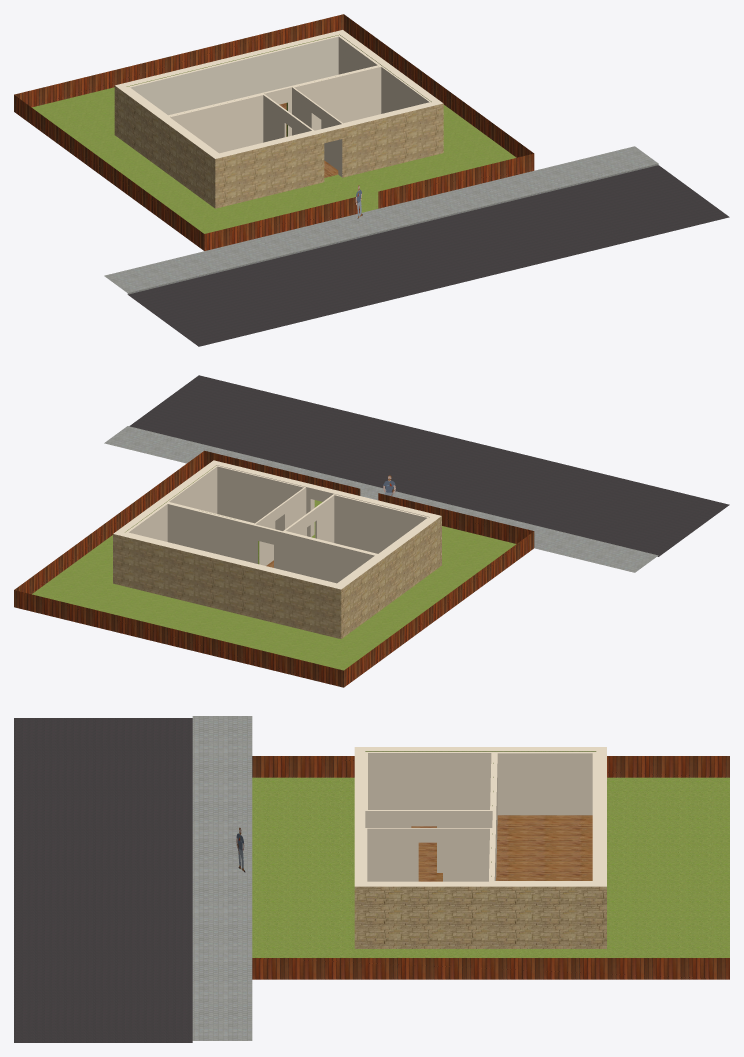
The model's file is GruppeF.glb.
3 renders of one model, top to bottom at view 1: azimuth 30°, elevation 25°; view 2: azimuth 150°, elevation 25°; view 3: azimuth 270°, elevation 25°, orthographic. The views are drawn at different scales.
Parts seen in each view (by area): view 1: ID465, SketchUp, ID499, ID539, ID452, ID512, ID553, ID491, ID547; view 2: ID465, ID539, ID499, SketchUp, ID512, ID547, ID452, ID491; view 3: ID465, ID539, ID452, ID512, ID499, SketchUp, ID547, ID531, ID491, ID518.
Part boxes in pixels (box(x1,y1,x2,y2)): ID465: box(128, 165, 729, 346); SketchUp: box(14, 14, 534, 250); ID499: box(114, 86, 443, 208); ID539: box(32, 87, 516, 233); ID452: box(104, 146, 658, 294); ID512: box(168, 66, 431, 177); ID553: box(130, 36, 338, 115); ID491: box(115, 30, 442, 158); ID547: box(127, 35, 381, 136); ID465: box(129, 375, 729, 556); ID539: box(32, 500, 516, 670); ID499: box(113, 516, 441, 638); SketchUp: box(14, 450, 534, 687); ID512: box(167, 465, 429, 565); ID547: box(125, 502, 378, 584); ID452: box(104, 426, 658, 572); ID491: box(113, 460, 441, 589); ID465: box(14, 718, 192, 1042); ID539: box(252, 777, 729, 957); ID452: box(192, 716, 252, 1040); ID512: box(365, 752, 493, 882); ID499: box(354, 886, 606, 948); SketchUp: box(252, 756, 729, 979); ID547: box(491, 752, 596, 882); ID531: box(496, 815, 592, 880); ID491: box(354, 747, 606, 886); ID518: box(411, 826, 442, 881).
Size of the model in its own units: 32.2 by 2.96 by 29.98.
86 materials, 13 textured.
